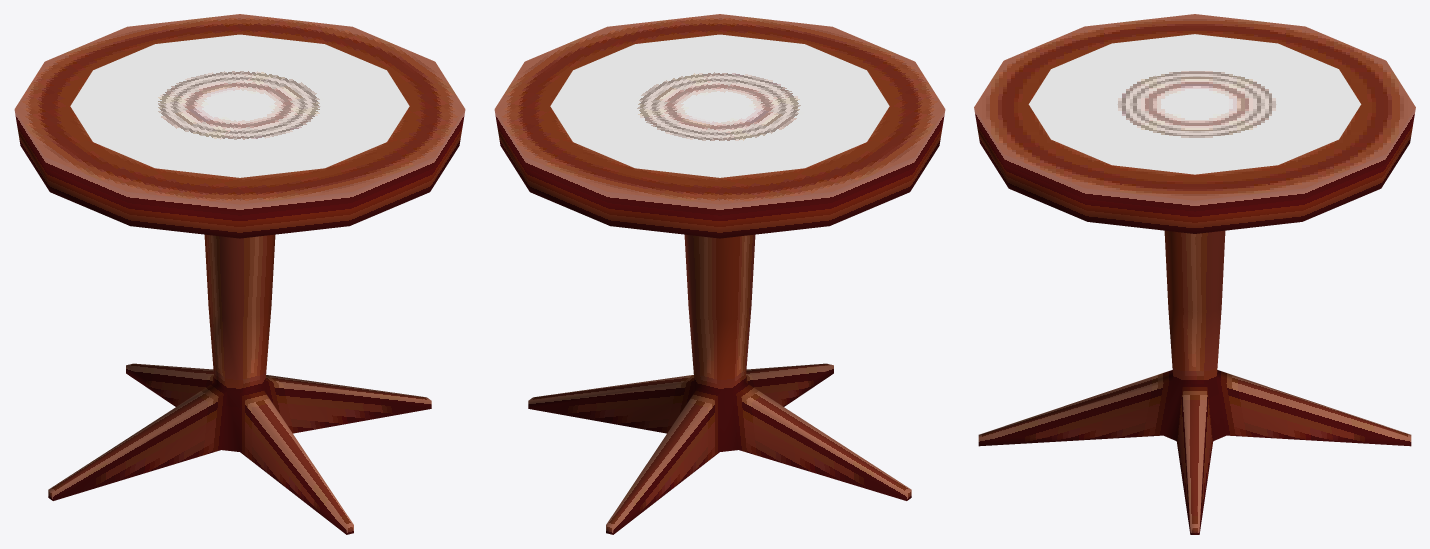
The model's file is rmk_chc_tableS.dae.
3 views of the same model, side by side, from view 1: azimuth 30°, elevation 25°; view 2: azimuth 150°, elevation 25°; view 3: azimuth 270°, elevation 25° (orthographic). The views are drawn at different scales.
Parts seen in each view (by area): view 1: rmk_chc_tableS; view 2: rmk_chc_tableS; view 3: rmk_chc_tableS.
Part boxes in pixels (box(x1,y1,x2,y2)): rmk_chc_tableS: box(14, 14, 465, 534); rmk_chc_tableS: box(494, 14, 945, 534); rmk_chc_tableS: box(974, 14, 1415, 534).
Bounding box in the file's own units: 28.59 × 24.28 × 28.59.
2 materials, 2 textured.
